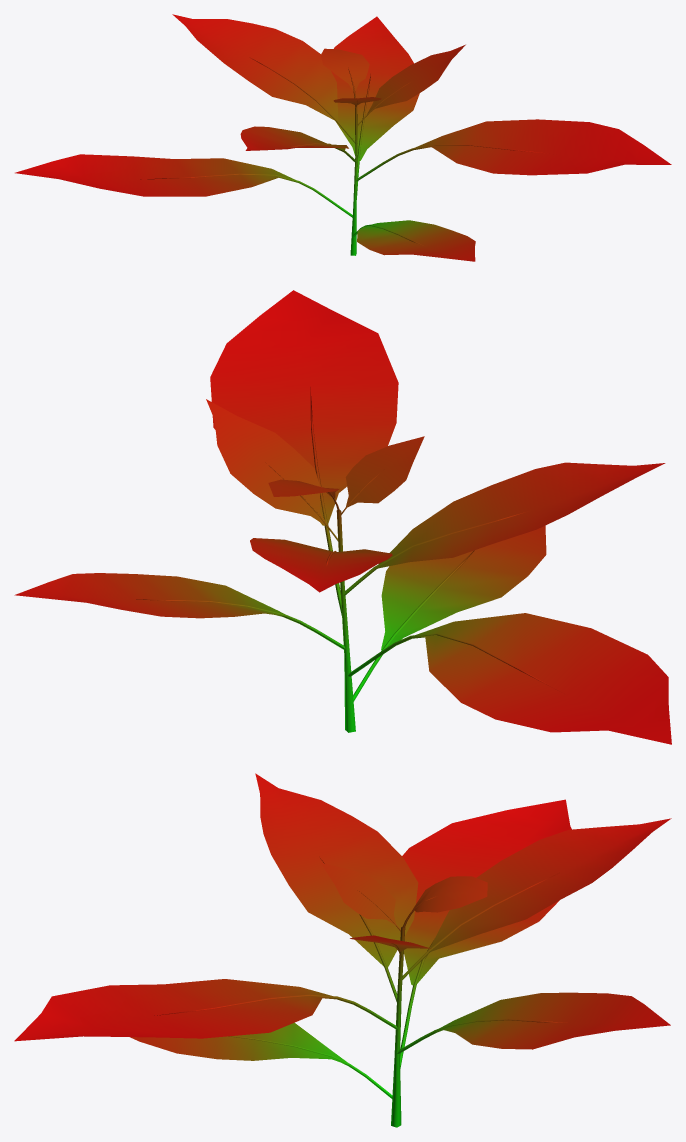
File: Small Balsam_LOD1_Var1_xefmcgrqx.fbx
3 renders of one model, top to bottom at view 1: azimuth 30°, elevation 25°; view 2: azimuth 150°, elevation 25°; view 3: azimuth 270°, elevation 25°, orthographic. The views are drawn at different scales.
Parts seen in each view (by area): view 1: _z1ig_Var1_LOD1; view 2: _z1ig_Var1_LOD1; view 3: _z1ig_Var1_LOD1.
Boxes of the visible parts, x1,y1,x2,y2 form: _z1ig_Var1_LOD1: (15, 14, 671, 261); _z1ig_Var1_LOD1: (14, 290, 671, 744); _z1ig_Var1_LOD1: (14, 773, 671, 1127).
Bounding box in the file's own units: 25.81 × 10.31 × 23.67.
